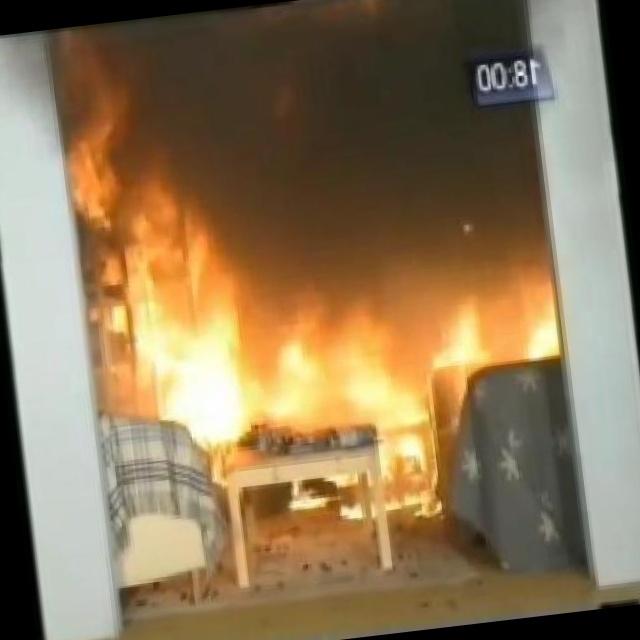fire: (75, 231, 554, 436)
smoke: (52, 0, 530, 276)
